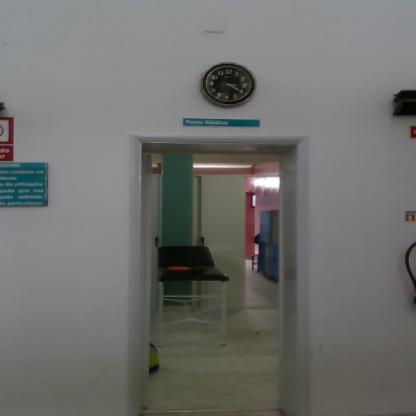open: (125, 122, 322, 410)
